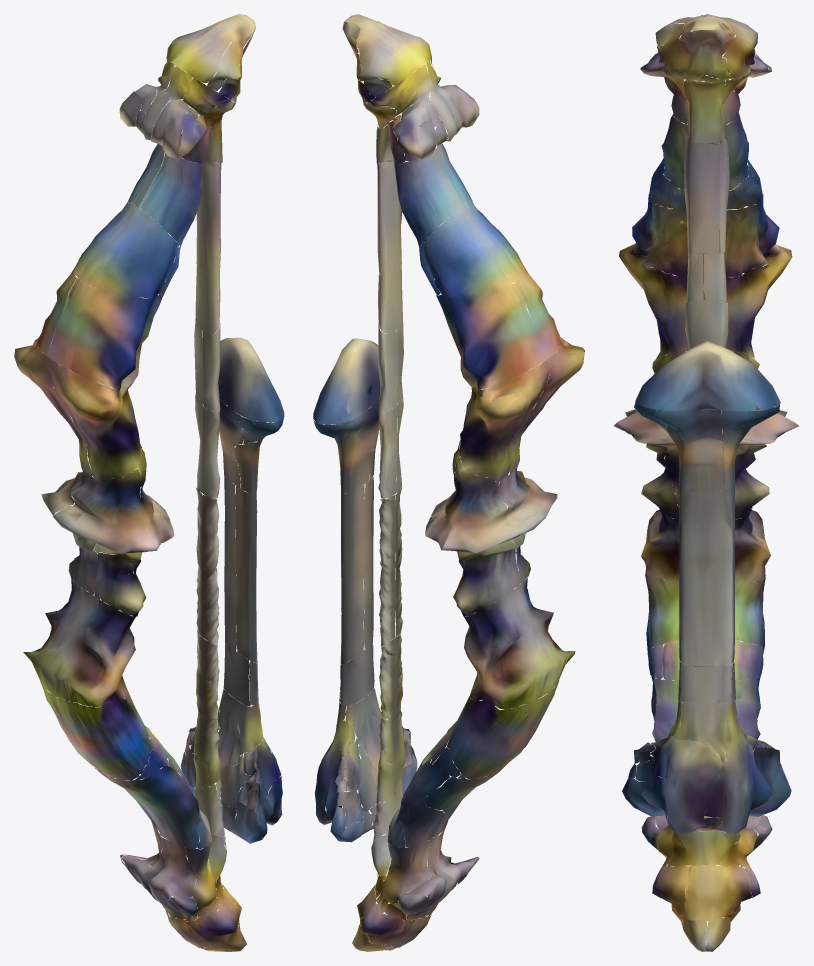
File: bow5.glb
The picture shows the model from 3 angles, left to right: view 1: azimuth 30°, elevation 25°; view 2: azimuth 150°, elevation 25°; view 3: azimuth 270°, elevation 25°; orthographic projection.
Visible parts, largest first — view 1: bow5; view 2: bow5; view 3: bow5.
Boxes of the visible parts, bbox=[...] form: bow5: bbox=[14, 14, 284, 951]; bow5: bbox=[313, 14, 584, 951]; bow5: bbox=[614, 14, 799, 951].
Size of the model in its own units: 0.2462 by 1 by 0.181.
1 material, 1 textured.
